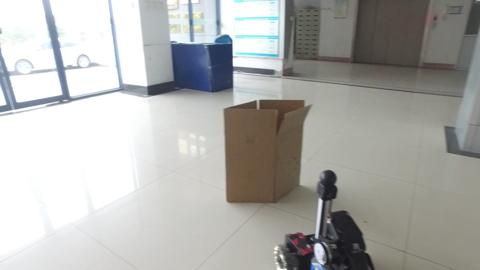box: (224, 94, 305, 205)
chariot: (271, 167, 380, 268)
